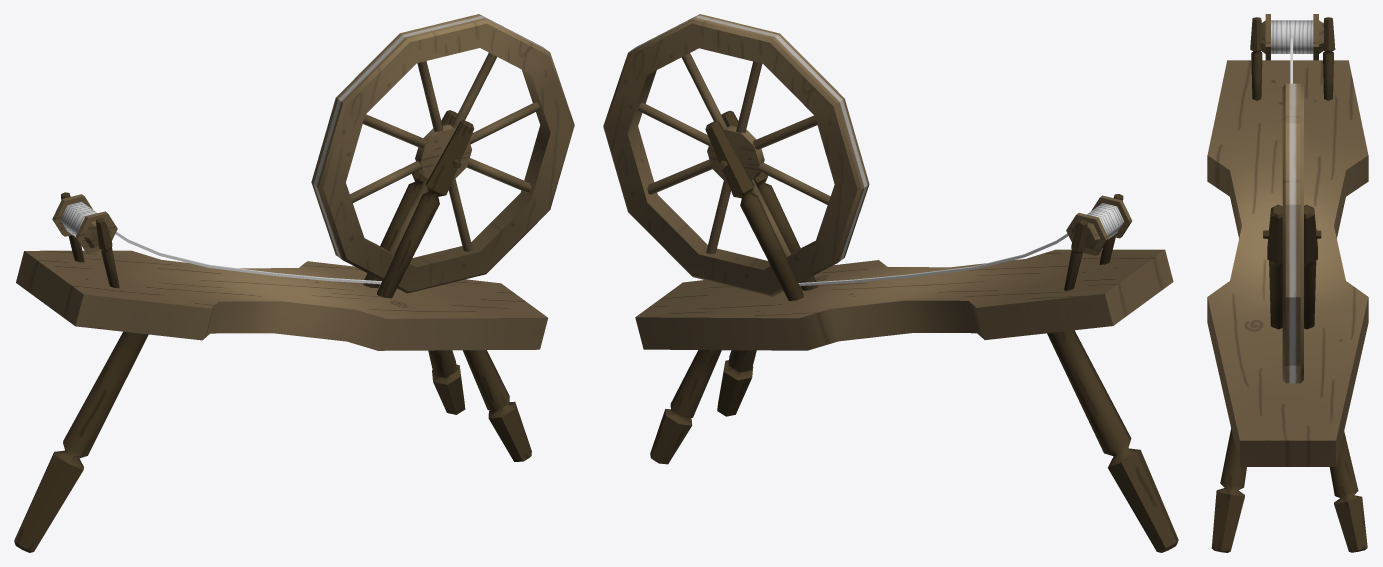
Rendered from cottonWheel_mesh.fbx.
3 views of the same model, side by side, from view 1: azimuth 30°, elevation 25°; view 2: azimuth 150°, elevation 25°; view 3: azimuth 270°, elevation 25° (orthographic). The views are drawn at different scales.
Parts seen in each view (by area): view 1: cottonWheel; view 2: cottonWheel; view 3: cottonWheel.
Boxes of the visible parts, x1,y1,x2,y2 form: cottonWheel: (14, 14, 574, 552); cottonWheel: (603, 14, 1178, 552); cottonWheel: (1207, 14, 1368, 552).
Size of the model in its own units: 180 by 129 by 43.97.
